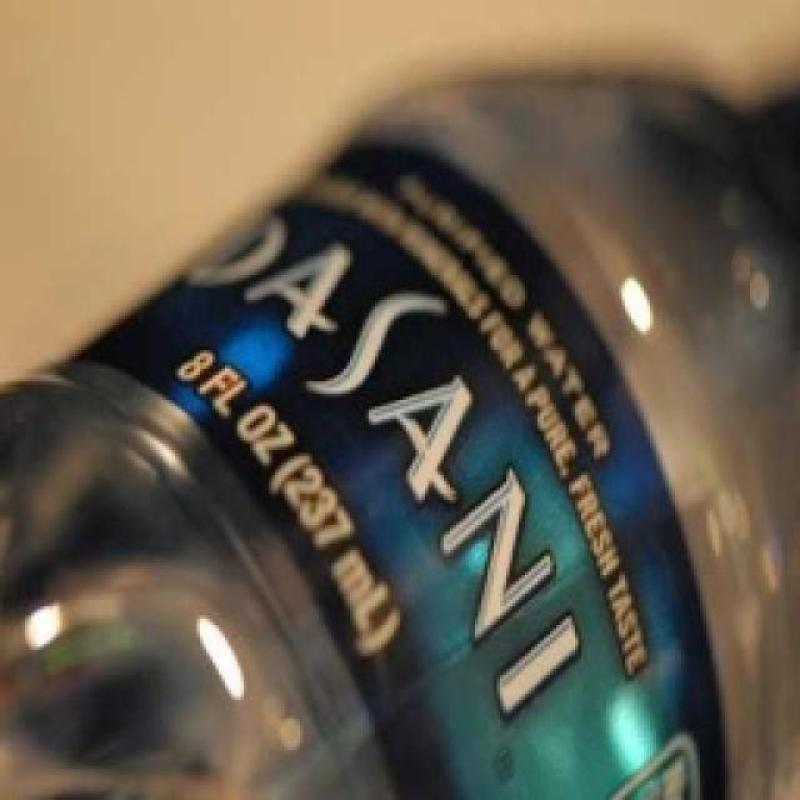botella: (0, 75, 800, 800)
